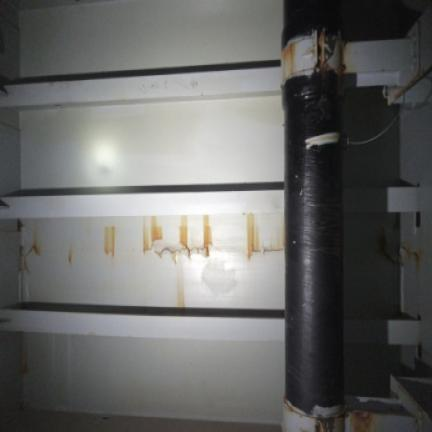besi_tidak_karat: (21, 94, 283, 188), (22, 333, 283, 421), (20, 0, 282, 77), (0, 67, 280, 109), (0, 305, 283, 342), (0, 184, 283, 217), (344, 39, 412, 85), (345, 318, 419, 343)
karat: (247, 214, 259, 258), (203, 215, 212, 255), (104, 226, 115, 257), (152, 216, 162, 244), (180, 216, 188, 249)
